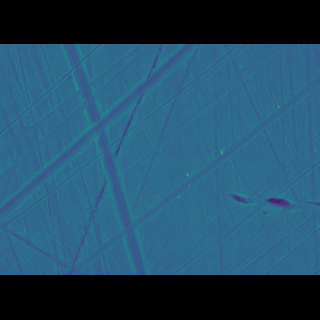Loch: (0, 77, 204, 206), (226, 182, 320, 199)
